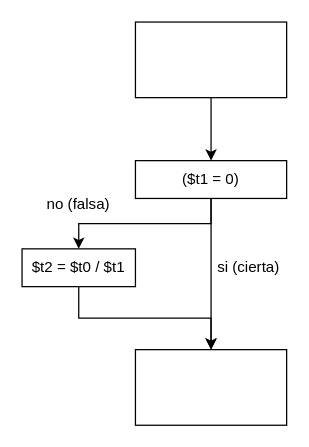
The diagram is 309 pixels wide and 447 high, and some of its shapes have lost their labels. The shapes that lost their labels are listed below. From the top down, each one's centre as x and y in pixels, then its label:
At [210,59]: "$t0 = dato1 $t1 = dato2 $t2 = 0".
At [210,386]: "$t3 = $t0 + $t1 $t2 = $t2 + $t3 res = $t2".
